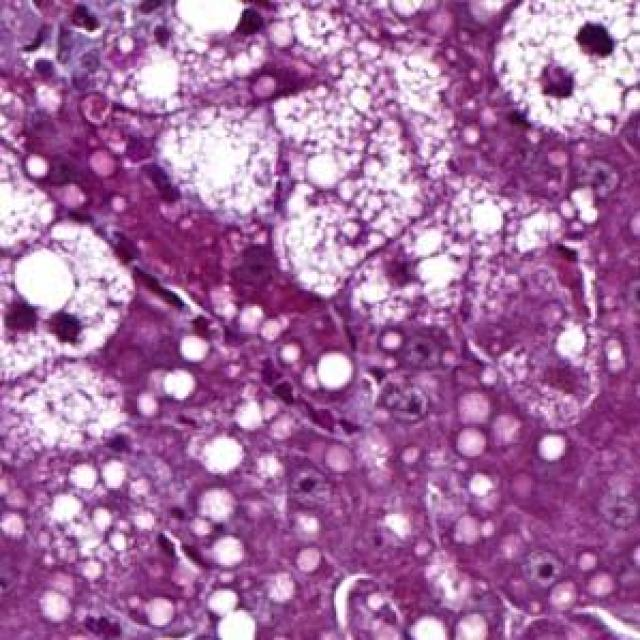ballooning: (9, 146, 137, 392), (488, 6, 629, 146)
